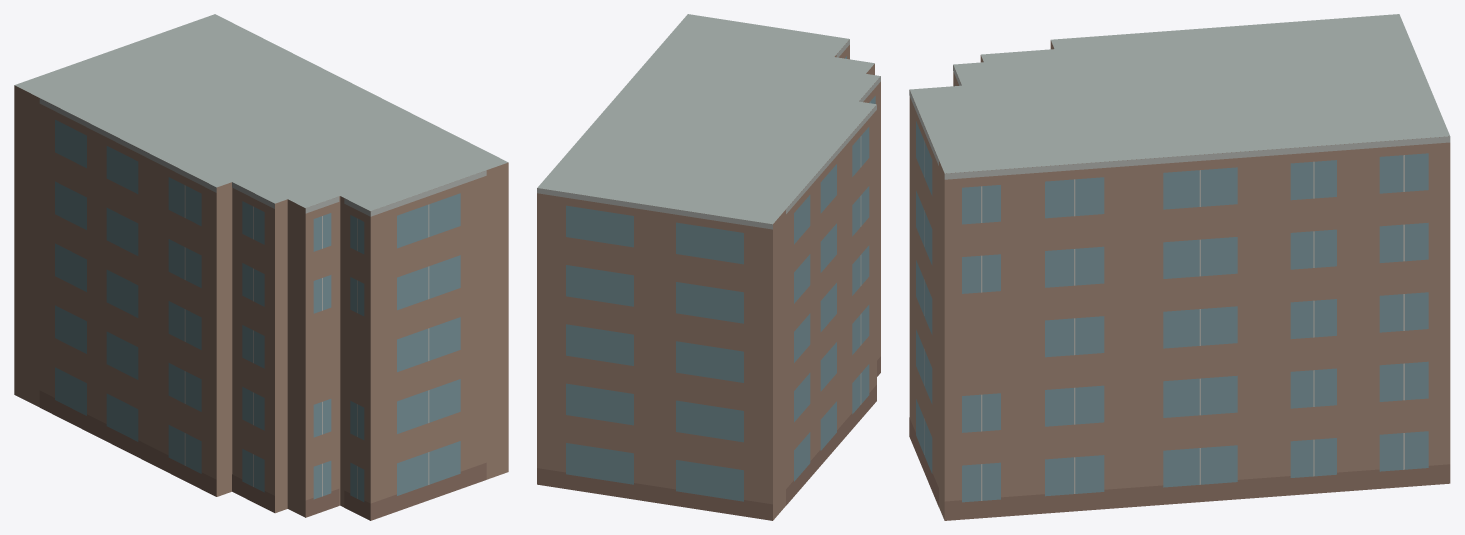
Rendered from survey-upis-32906647.glb.
The picture shows the model from 3 angles, left to right: view 1: azimuth 30°, elevation 25°; view 2: azimuth 150°, elevation 25°; view 3: azimuth 270°, elevation 25°; orthographic projection. The views are drawn at different scales.
Parts seen in each view (by area): view 1: survey-upis-32906647.tmp; view 2: survey-upis-32906647.tmp; view 3: survey-upis-32906647.tmp.
Boxes of the visible parts, x1,y1,x2,y2 form: survey-upis-32906647.tmp: (14,14,508,520); survey-upis-32906647.tmp: (537,14,880,520); survey-upis-32906647.tmp: (909,14,1450,520).
Size of the model in its own units: 13.51 by 13.7 by 19.34.
